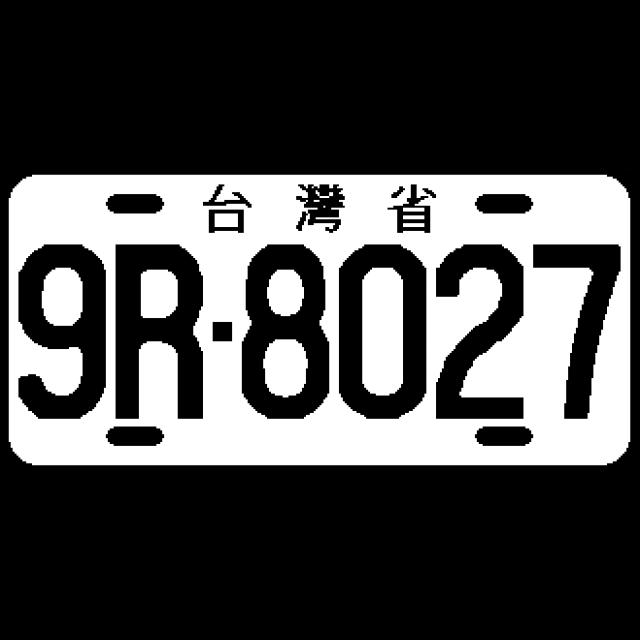plate: (6, 172, 634, 470)
